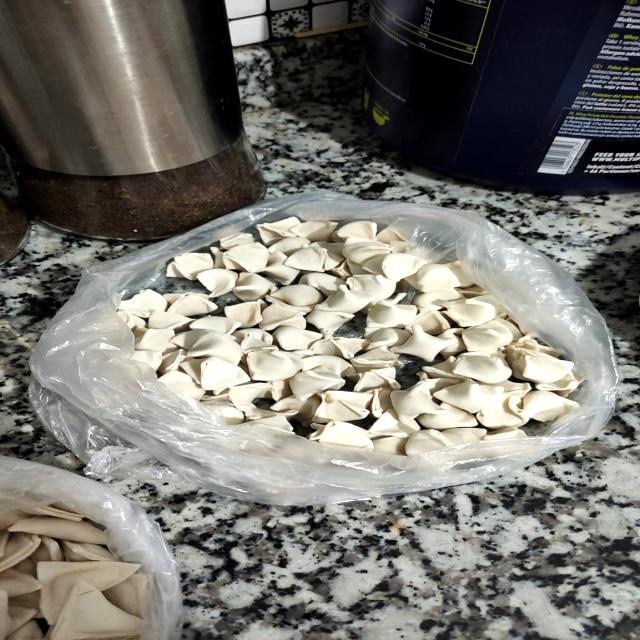turkish dumplings: (44, 177, 605, 488)
